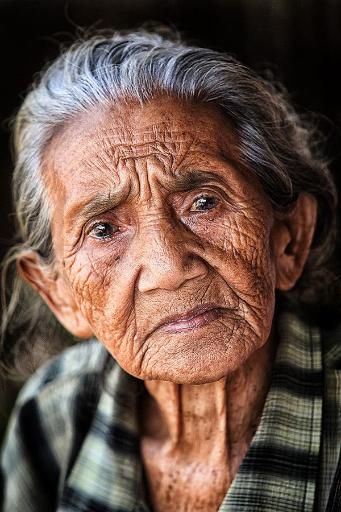left_eye: (185, 196, 229, 220)
left_lip_corner: (214, 299, 237, 318)
right_eye: (83, 219, 134, 246)
right_lip_corner: (144, 319, 169, 337)
